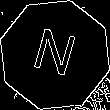N_S: (29, 25, 81, 85)
